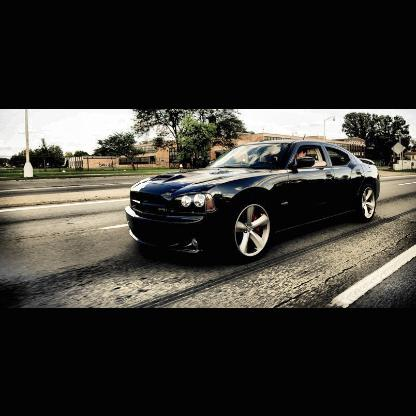Dodge Charger SRT-8 2009: (125, 133, 383, 265)
